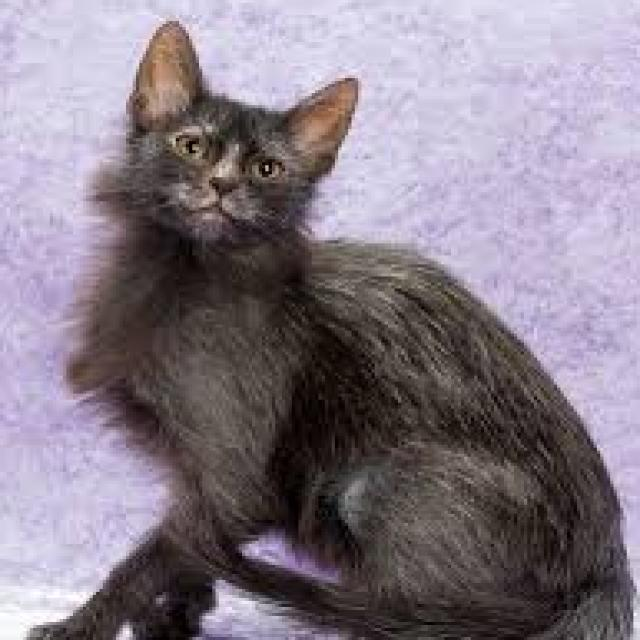Lykoi: (16, 15, 640, 640)
